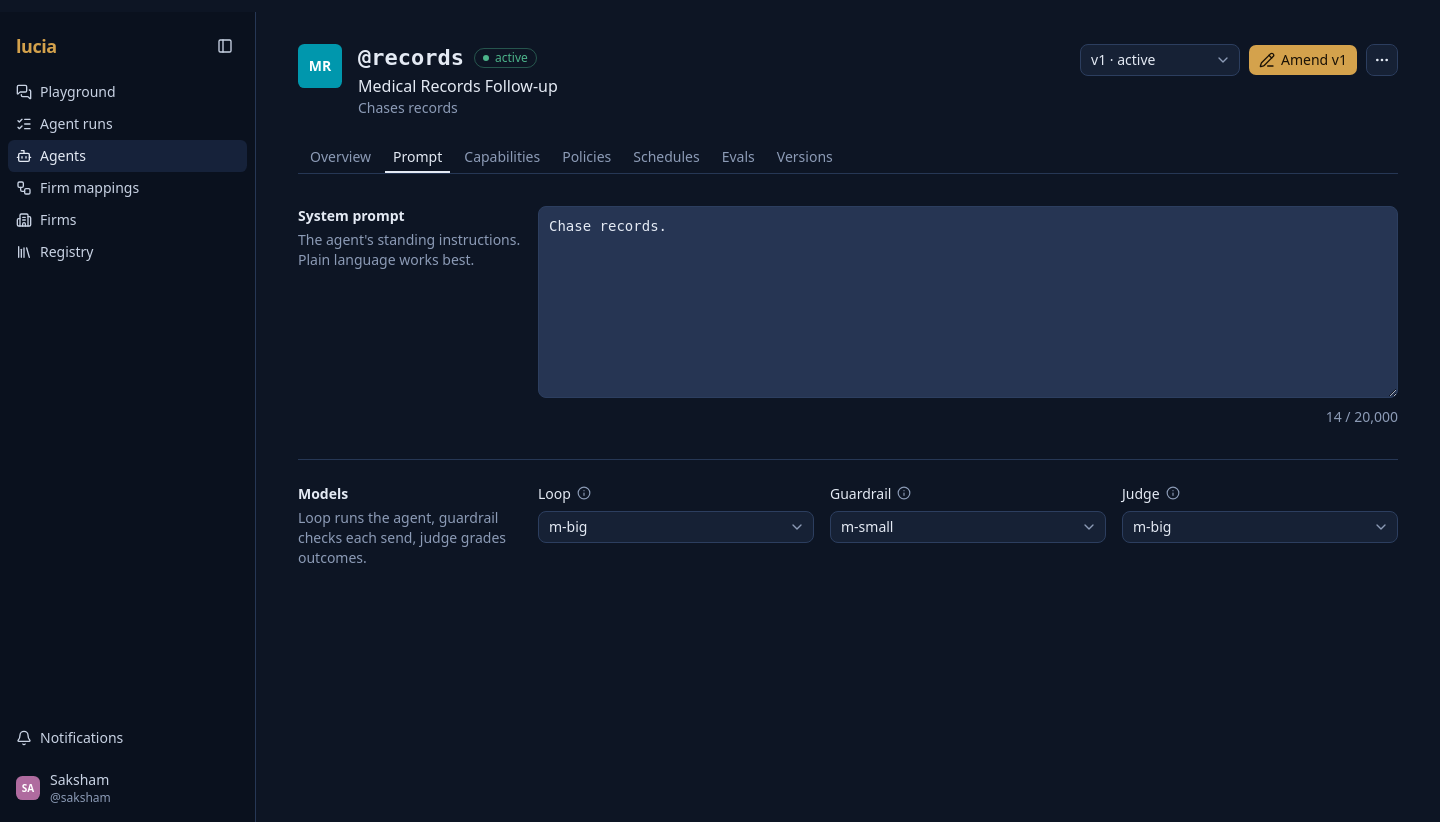
Test: agent detail › each model role explains what it is used for
The image size is (1440, 822).
Hover over the button named "What the guardrail model does" at (904, 493), box [897, 486, 911, 500]
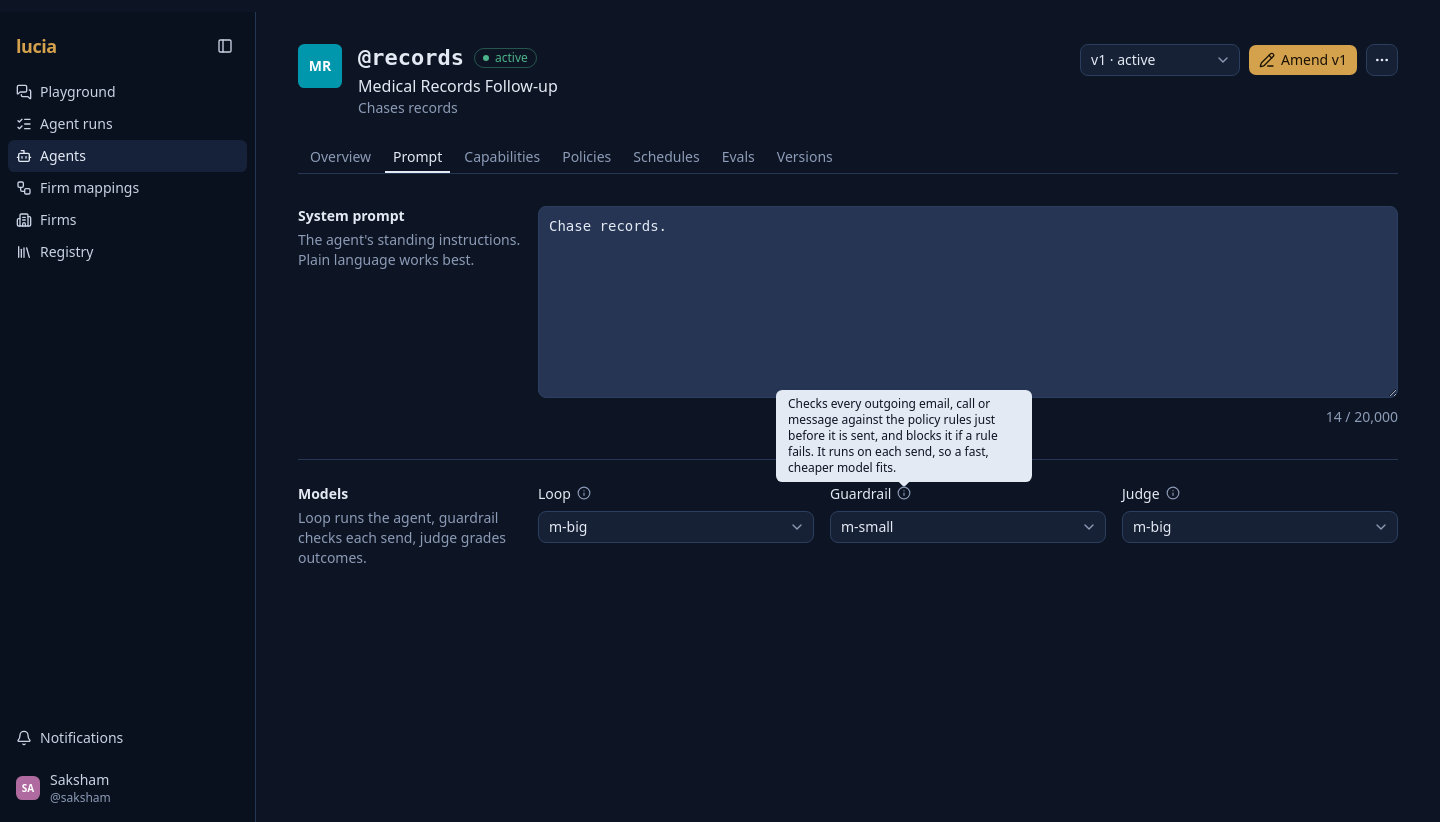
Expected: the button named "What the loop model does" is shown, [577, 486, 591, 500]
Expected: the text "Checks every outgoing email, call or message" is shown, [788, 395, 998, 476]
